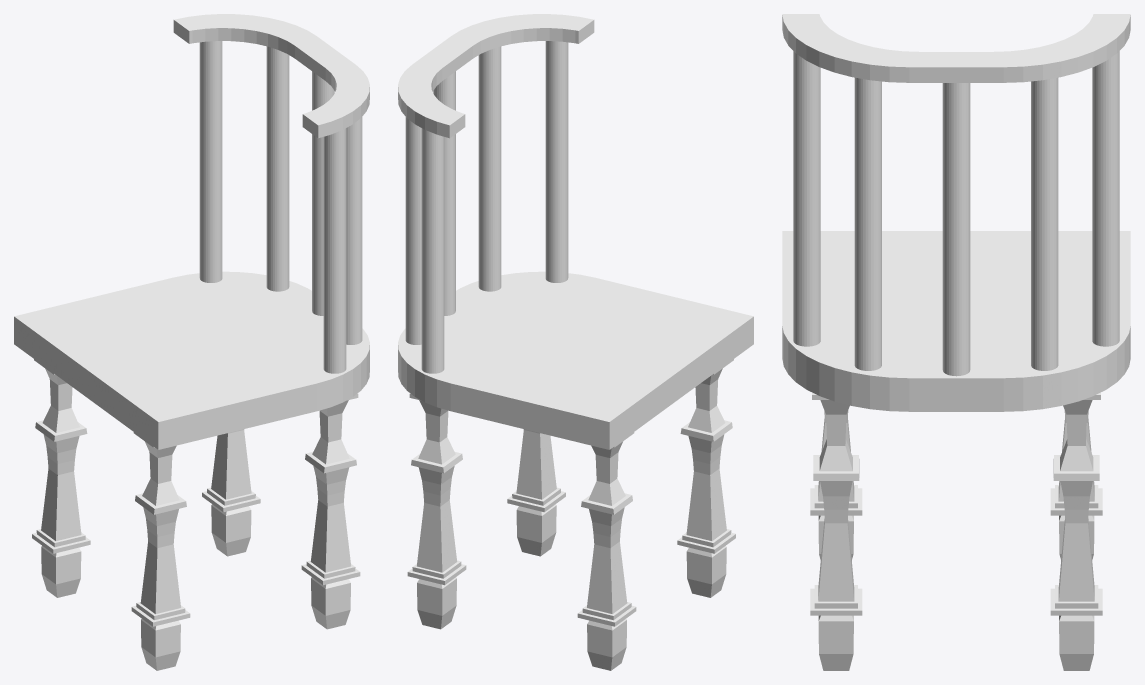
Rendered from silla.obj.
3 renders of one model, left to right at view 1: azimuth 30°, elevation 25°; view 2: azimuth 150°, elevation 25°; view 3: azimuth 270°, elevation 25°, orthographic. The views are drawn at different scales.
Visible parts, largest first — view 1: silla_agal.001_Cube.017, pata.001_Cube.016, barrote_3.001_Cylinder.005, barrote_2.001_Cylinder.006, respaldo.001_Cube.015, barrote.002_Cylinder.004; view 2: silla_agal.001_Cube.017, pata.001_Cube.016, barrote_3.001_Cylinder.005, barrote_2.001_Cylinder.006, respaldo.001_Cube.015, barrote.002_Cylinder.004; view 3: silla_agal.001_Cube.017, pata.001_Cube.016, barrote_2.001_Cylinder.006, barrote_3.001_Cylinder.005, respaldo.001_Cube.015, barrote.002_Cylinder.004.
Boxes of the visible parts, <box> form: silla_agal.001_Cube.017: <box>14,271,369,449</box>; pata.001_Cube.016: <box>32,359,360,670</box>; barrote_3.001_Cylinder.005: <box>199,41,346,373</box>; barrote_2.001_Cylinder.006: <box>266,46,362,344</box>; respaldo.001_Cube.015: <box>173,14,369,138</box>; barrote.002_Cylinder.004: <box>312,71,334,315</box>; silla_agal.001_Cube.017: <box>398,271,753,449</box>; pata.001_Cube.016: <box>407,359,735,670</box>; barrote_3.001_Cylinder.005: <box>421,41,568,373</box>; barrote_2.001_Cylinder.006: <box>405,46,501,344</box>; respaldo.001_Cube.015: <box>398,14,594,138</box>; barrote.002_Cylinder.004: <box>433,71,455,315</box>; silla_agal.001_Cube.017: <box>782,231,1130,411</box>; pata.001_Cube.016: <box>810,392,1102,670</box>; barrote_2.001_Cylinder.006: <box>854,77,1058,370</box>; barrote_3.001_Cylinder.005: <box>793,51,1119,346</box>; respaldo.001_Cube.015: <box>782,14,1130,82</box>; barrote.002_Cylinder.004: <box>942,83,970,376</box>.
Size of the model in its own units: 1.97 by 3.93 by 1.97.
1 material, 1 textured.
